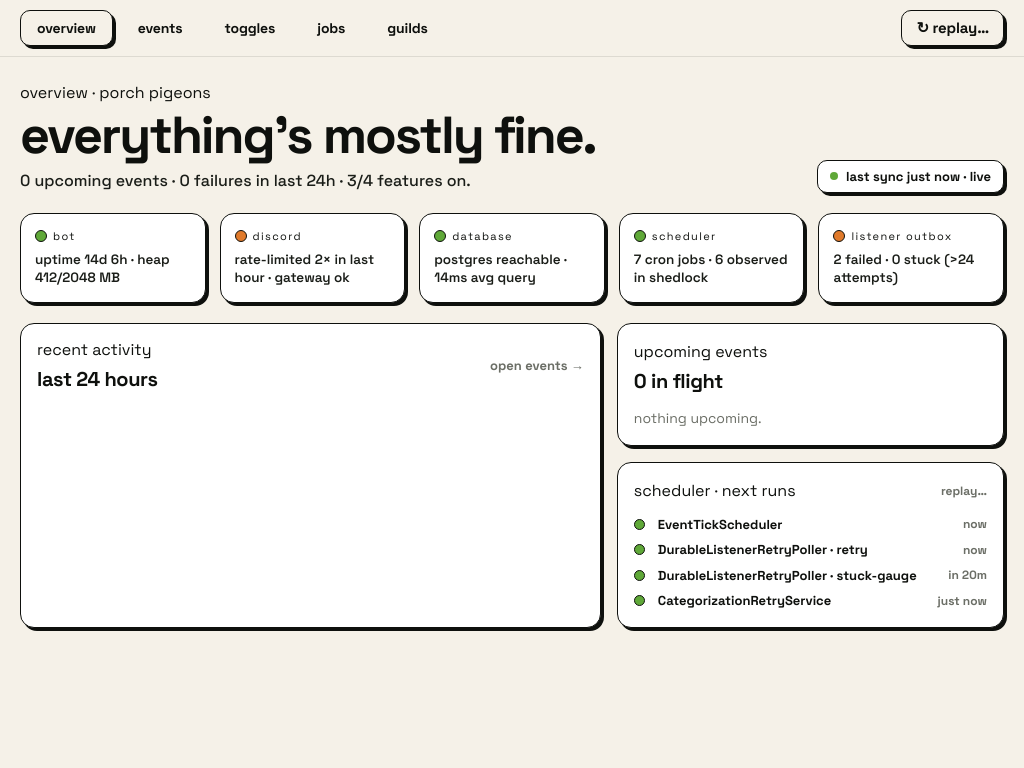
Test: AdminPanel › switches sections when sub-nav tabs are clicked
Expected: the heading "everything's mostly fine." is shown, 20,109 -> 596,161
Click the button "toggles". click: (250, 28)
box: 208,10 -> 292,46
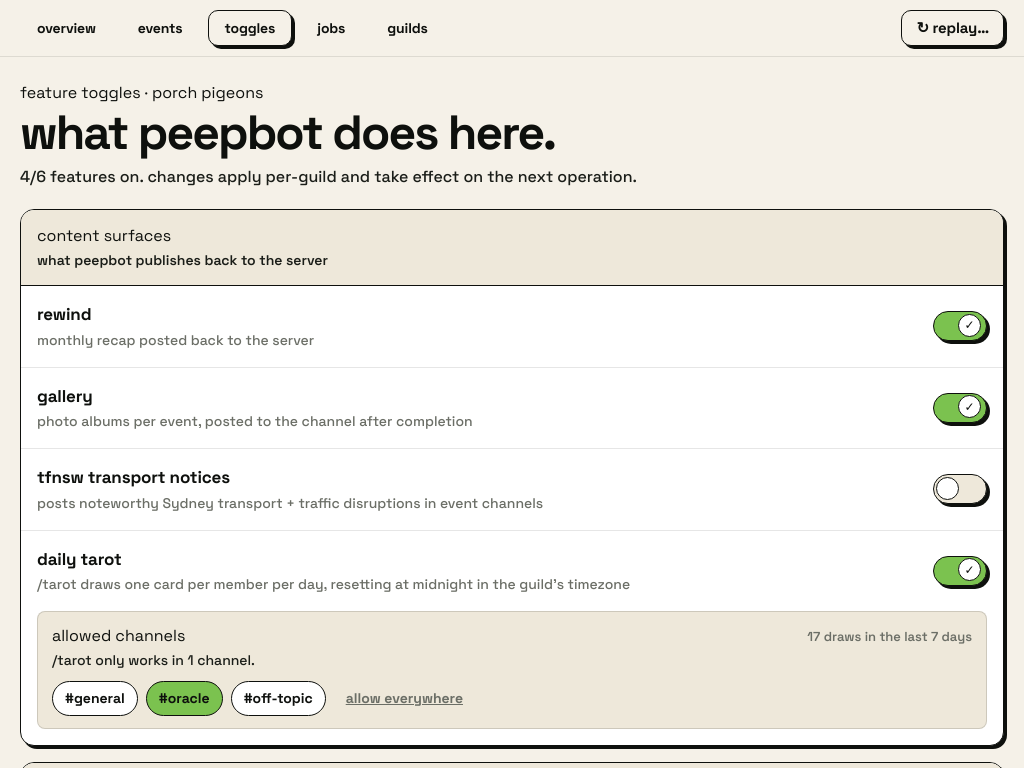
Expected: the heading "what peepbot does here." is shown, 20,102 -> 555,163
Click the button "jobs". click: (331, 28)
box: 300,10 -> 362,46
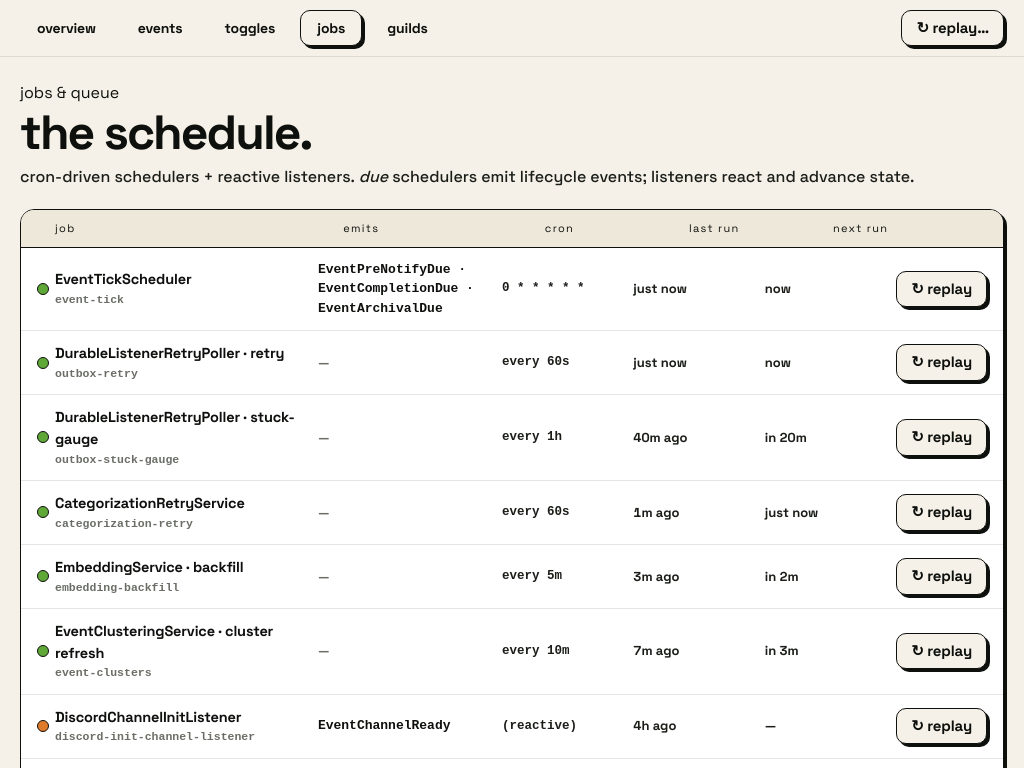
Expected: the heading "the schedule." is shown, 20,102 -> 312,163
Click the button "guilds". click: (408, 28)
box: 370,10 -> 445,46
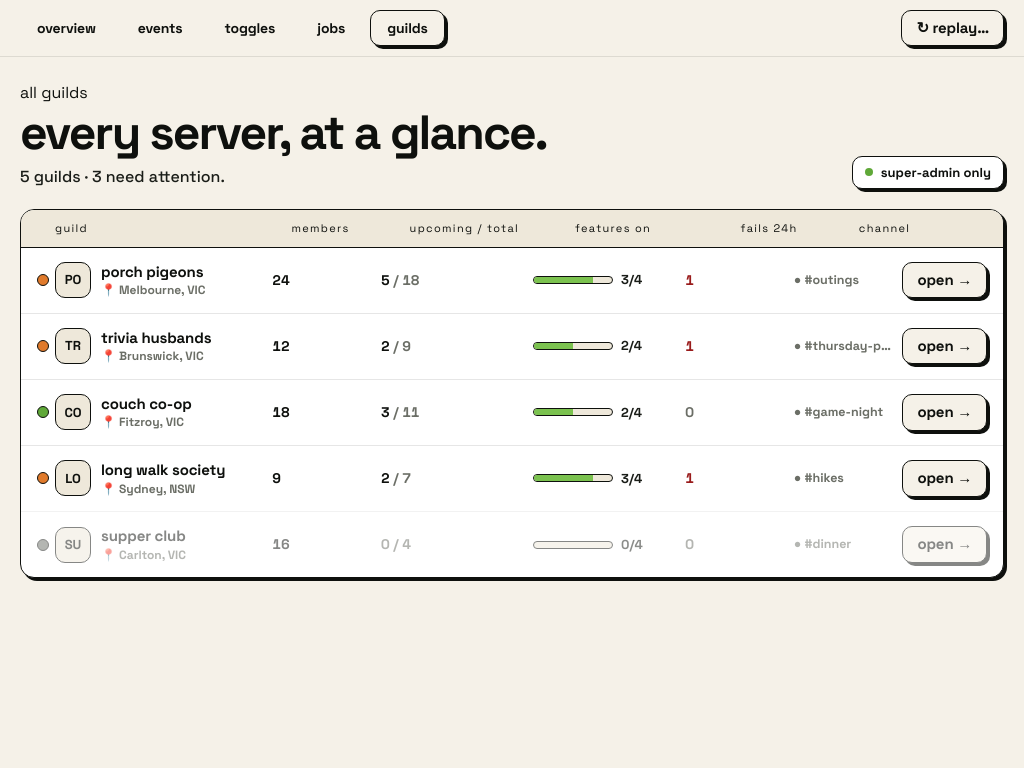
Expected: the heading "every server, at a glance." is shown, 20,109 -> 547,157
